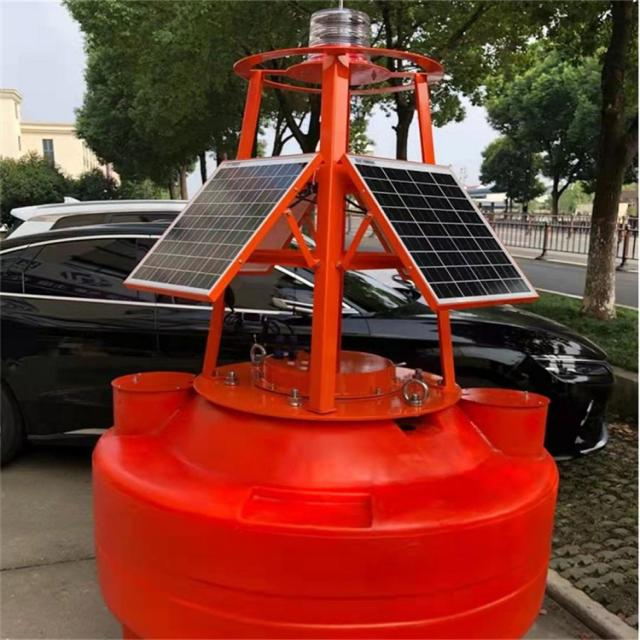buoy: (87, 1, 562, 640)
